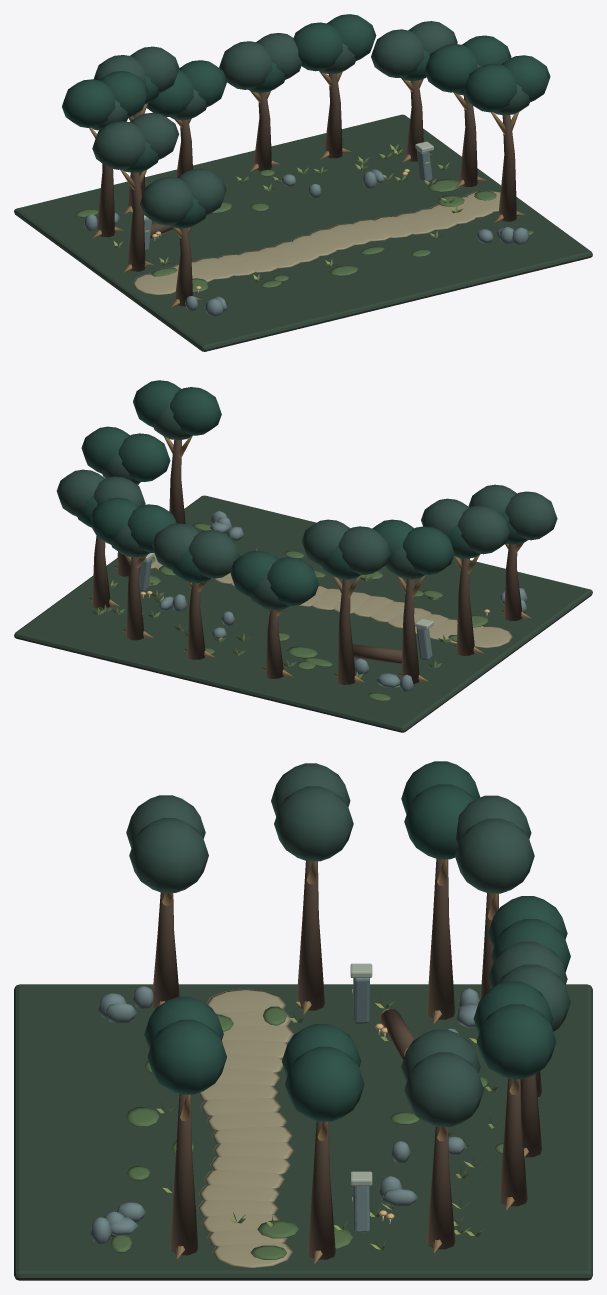
Rendered from woodland.glb.
3 views of the same model, one above another, from view 1: azimuth 30°, elevation 25°; view 2: azimuth 150°, elevation 25°; view 3: azimuth 270°, elevation 25° (orthographic). The views are drawn at different scales.
Visible parts, largest first — view 1: Woodland clearing / merged solid scenery; view 2: Woodland clearing / merged solid scenery; view 3: Woodland clearing / merged solid scenery.
Part boxes in pixels (x1,y1,x2,y2): Woodland clearing / merged solid scenery: (14,14,592,351); Woodland clearing / merged solid scenery: (14,380,592,732); Woodland clearing / merged solid scenery: (14,761,592,1280).
Size of the model in its own units: 20.18 by 7.55 by 16.
1 material, 1 textured.
